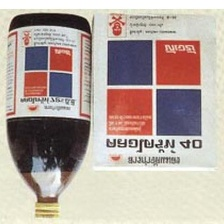book: (87, 9, 224, 175)
insecticide: (2, 8, 94, 221)
